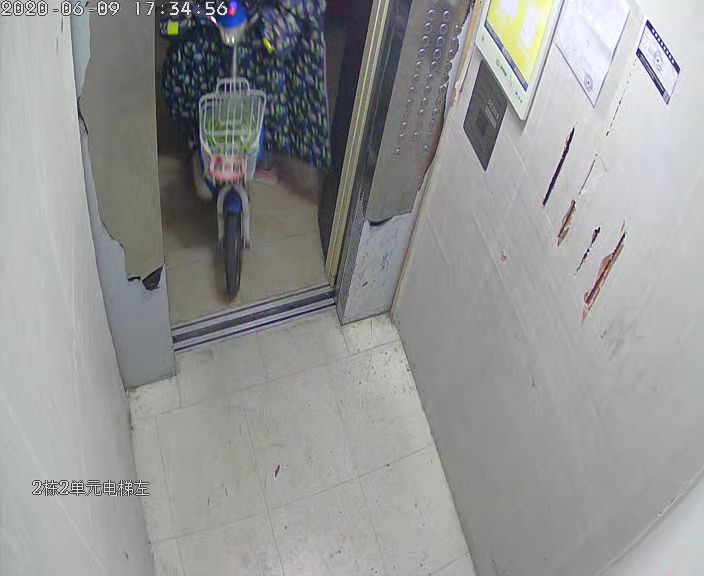Electric-bicycle: (166, 1, 324, 299)
